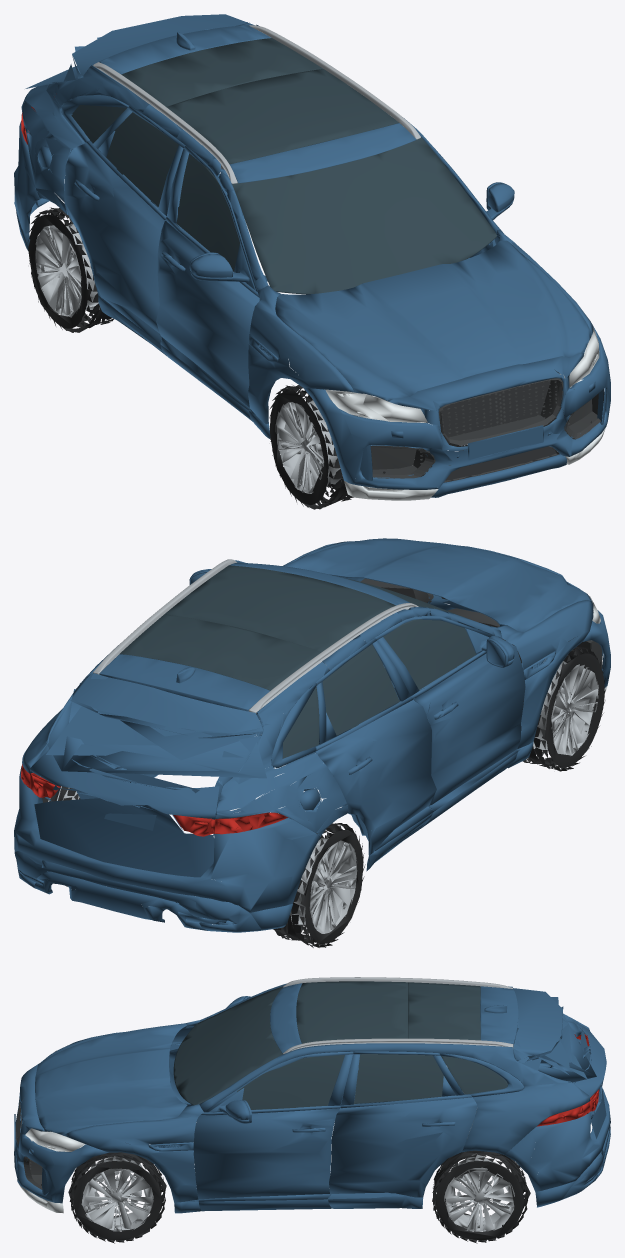
File: jaguar-f-pace-repaired.glb
The picture shows the model from 3 angles, top to bottom: view 1: azimuth 30°, elevation 25°; view 2: azimuth 150°, elevation 25°; view 3: azimuth 270°, elevation 25°; orthographic projection. The views are drawn at different scales.
Parts seen in each view (by area): view 1: Hood, Windshield, Roof_Glass, Front_Bumper, R_Rear_Door, R_Front_Door, Grille, R_Quarter_Panel, Roof, Wheel, Tire, R_Fender (+12 smaller); view 2: Tailgate, Rear_Bumper, Roof_Glass, R_Rear_Door, Hood, R_Front_Door, R_Quarter_Panel, Wheel, Tire, Roof, R_Fender, R_Rear_Window (+10 smaller); view 3: L_Front_Door, L_Rear_Door, Hood, Roof_Glass, L_Quarter_Panel, Windshield, Tire, Wheel, Tailgate, Rear_Bumper, L_Fender, Front_Bumper (+12 smaller).
Part boxes in pixels (<box>): Hood: <box>275,240,591,400</box>; Windshield: <box>232,137,496,294</box>; Roof_Glass: <box>121,38,399,164</box>; Front_Bumper: <box>303,326,610,497</box>; R_Rear_Door: <box>64,106,185,355</box>; R_Front_Door: <box>156,146,267,421</box>; Grille: <box>370,370,601,482</box>; R_Quarter_Panel: <box>21,65,268,291</box>; Roof: <box>99,25,416,183</box>; Wheel: <box>35,224,543,493</box>; Tire: <box>28,207,604,509</box>; R_Fender: <box>248,286,354,438</box>; Tailgate: <box>30,673,269,877</box>; Rear_Bumper: <box>14,766,320,932</box>; Roof_Glass: <box>120,565,395,690</box>; R_Rear_Door: <box>314,638,436,871</box>; Hood: <box>283,538,591,632</box>; R_Front_Door: <box>375,615,525,828</box>; R_Quarter_Panel: <box>213,606,501,836</box>; Wheel: <box>48,661,598,933</box>; Tire: <box>42,646,605,947</box>; Roof: <box>99,562,409,711</box>; R_Fender: <box>497,600,593,768</box>; R_Rear_Window: <box>322,644,399,740</box>; L_Front_Door: <box>193,1051,353,1211</box>; L_Rear_Door: <box>328,1051,477,1208</box>; Hood: <box>35,1023,187,1135</box>; Roof_Glass: <box>296,981,480,1043</box>; L_Quarter_Panel: <box>199,1023,590,1154</box>; Windshield: <box>173,986,282,1105</box>; Tire: <box>68,1150,530,1243</box>; Wheel: <box>81,1124,514,1231</box>; Tailgate: <box>513,988,606,1138</box>; Rear_Bumper: <box>504,1039,610,1207</box>; L_Fender: <box>63,1104,203,1213</box>; Front_Bumper: <box>14,1060,108,1203</box>.
Bounding box in the file's own units: 2.31 × 1.74 × 4.96.
